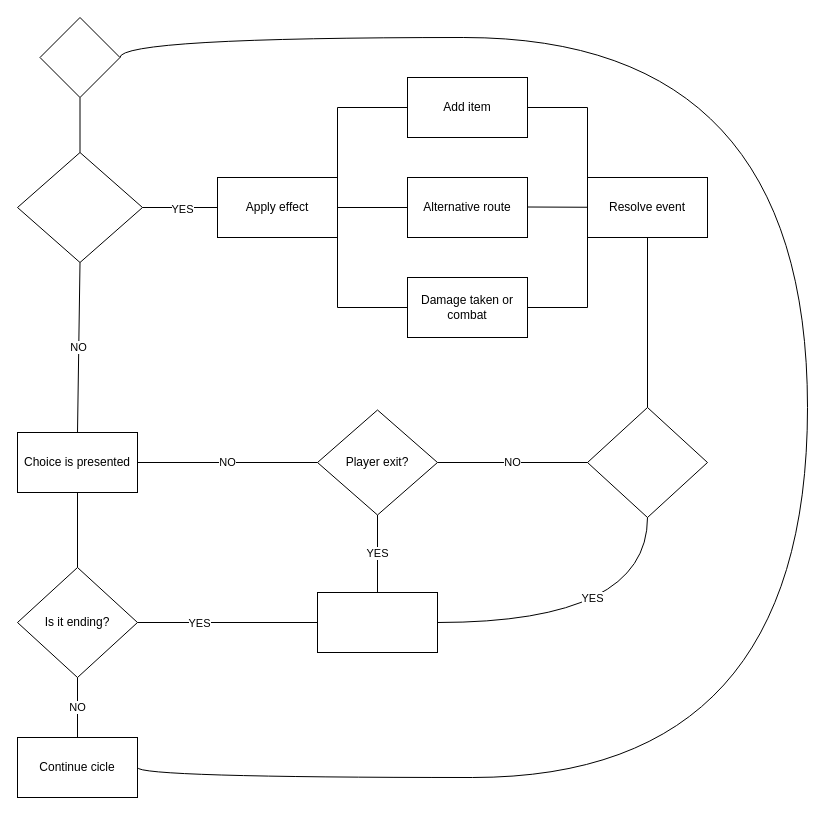
Image size: 825x815. Some labels were removed from this diagram. The shapes that lost their labels are listed below. From the top down, each one's centre as x and y in pixels, then its label:
the point at 79,57: Start
the point at 79,207: Are there special events?
the point at 647,462: Is player dead?
the point at 377,622: Show ending OR End game
